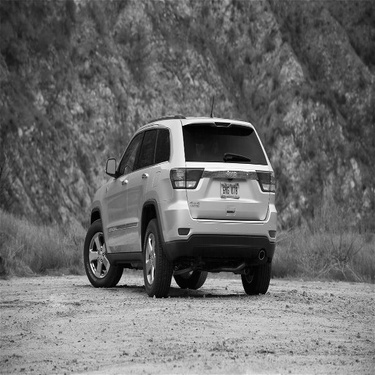car: (74, 91, 281, 304)
